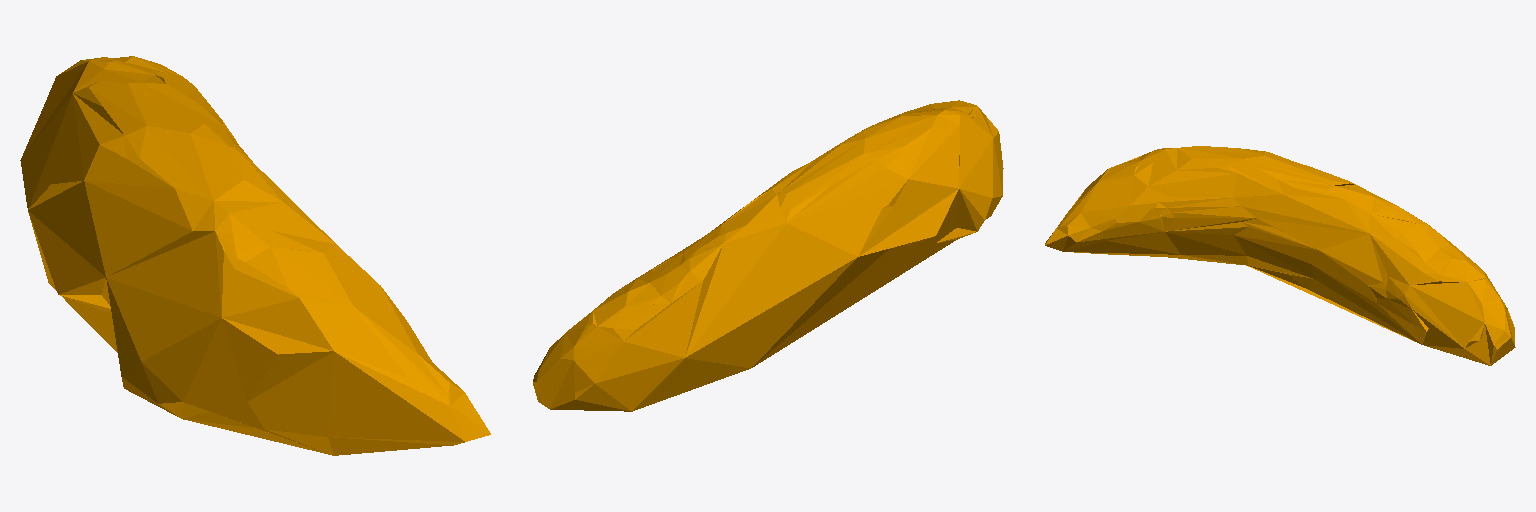
The robot description file, URDF, robot "banana":
<?xml version="2.0" ?>
<robot name="banana" xmlns:xacro="http://www.ros.org/wiki/xacro">
    <link name="banana">
        <inertial>
            <origin rpy="0 0 0.0" xyz="-0.1 -0.1 0.2"/>
            <mass value="0.2"/>
            <inertia ixx="0.000988666" ixy="-0.000149083" ixz="0.000017707" iyy="0.000988802" iyz="0.000009507" izz="0.000999798"/>
        </inertial>
        <visual>
            <origin rpy="0 0 0.0" xyz="-0.1 -0.1 0.2"/>
            <geometry>
                <mesh filename="package://kuka_gripper_description/meshes/banana.obj"/>
            </geometry>
            <material name="banana">
                <texture filename="package://kuka_gripper_description/meshes/banana.png"/>
            </material> 
        </visual>
        <collision>
            <origin rpy="0 0 0.0" xyz="-0.1 -0.1 0.2"/>
            <geometry>
                <mesh filename="package://kuka_gripper_description/meshes/banana.obj"/>
            </geometry>
        </collision>
    </link>
</robot>

--- Facts derived from the render (not from the file) ---
The picture shows the robot from 3 angles, left to right: view 1: azimuth 30°, elevation 25°; view 2: azimuth 150°, elevation 25°; view 3: azimuth 270°, elevation 25°; orthographic projection.
Model banana with 1 links and 0 joints (none), rooted at banana, posed all joints at 0.
Links seen in each view (by area): view 1: banana; view 2: banana; view 3: banana.
Boxes of the visible links, x1,y1,x2,y2 form: banana: (20, 56, 490, 455); banana: (533, 100, 1003, 411); banana: (1045, 146, 1515, 365).
Size in the robot's own frame: 0.0838 by 0.1771 by 0.0599 metres.
Meshes: 1 distinct files referenced, 1 mesh visuals loaded (1 OBJ).